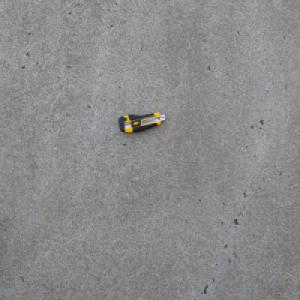Cutter: (117, 111, 165, 133)
